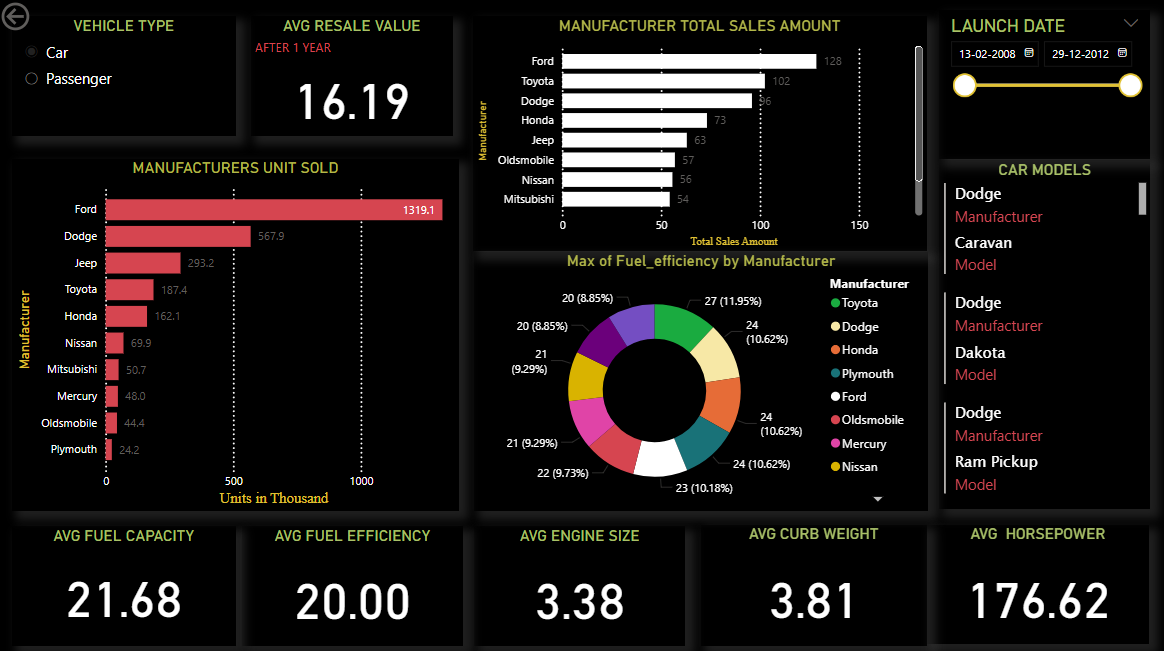

The dashboard page shown, as its layout file describes it:
{"tool":"powerbi","page":{"name":"Page 1","canvas":[1280,720],"ordinal":0},"visuals":[{"type":"barChart","title":" MANUFACTURERS UNIT SOLD","fields":{"Y":["Sum(cardata cardata_csv.Sales_in_thousands)"],"Category":["cardata cardata_csv.Manufacturer"]},"box":[16.3,174,484.7,382.2],"z":0},{"type":"slicer","fields":{"Values":["cardata cardata_csv.launch_date"]},"box":[1021.5,13.3,229.2,161.1],"z":1000},{"type":"card","title":"AVG RESALE VALUE","fields":{"Values":["Avg(cardata cardata_csv.__year_resale_value)"]},"box":[274.9,19.5,219.6,130.1],"z":2000},{"type":"multiRowCard","title":"CAR MODELS","fields":{"Values":["cardata cardata_csv.Manufacturer","cardata cardata_csv.Model"]},"box":[1021.5,191.9,229.3,379],"z":3000},{"type":"card","title":"AVG  HORSEPOWER","fields":{"Values":["Avg(cardata cardata_csv.Horsepower)"]},"box":[1008.5,570.9,240.7,130.1],"z":4000},{"type":"card","title":"AVG FUEL CAPACITY","fields":{"Values":["Avg(cardata cardata_csv.Fuel_capacity)"]},"box":[16.3,572.5,242.4,130.1],"z":5000},{"type":"card","title":"AVG FUEL EFFICIENCY","fields":{"Values":["Avg(cardata cardata_csv.Fuel_efficiency)"]},"box":[265.1,572.5,240.7,130.1],"z":6000},{"type":"actionButton","box":[0,0,100,40],"z":7000},{"type":"card","title":"AVG ENGINE SIZE","fields":{"Values":["Avg(cardata cardata_csv.Engine_size)"]},"box":[517.2,572.5,229.3,130.1],"z":8000},{"type":"card","title":"AVG CURB WEIGHT","fields":{"Values":["Avg(cardata cardata_csv.Curb_weight)"]},"box":[762.8,570.9,245.6,131.8],"z":9000},{"type":"slicer","title":"VEHICLE TYPE","fields":{"Values":["cardata cardata_csv.Vehicle_type"]},"box":[16.3,19.5,242.4,130.1],"z":10000},{"type":"clusteredBarChart","title":" MANUFACTURER TOTAL SALES AMOUNT","fields":{"Category":["cardata cardata_csv.Manufacturer"],"Y":["Sum(cardata cardata_csv.Price_in_thousands)"]},"box":[515.6,19.5,492.8,255.4],"z":11000},{"type":"donutChart","fields":{"Category":["cardata cardata_csv.Manufacturer"],"Y":["Max(cardata cardata_csv.Fuel_efficiency)"]},"box":[517.2,274.9,492.8,281.4],"z":12000}]}

Visuals, with their boxes in screenshot pixels (x1, y1, x2, y2), scaled from the page's 1280x720 canvas onto the 1164x651 screenshot:
" MANUFACTURERS UNIT SOLD" barChart: [left=15, top=157, right=456, bottom=503]
slicer - cardata cardata_csv.launch_date: [left=929, top=12, right=1137, bottom=158]
"AVG RESALE VALUE" card: [left=250, top=18, right=450, bottom=135]
"CAR MODELS" multiRowCard: [left=929, top=174, right=1137, bottom=516]
"AVG  HORSEPOWER" card: [left=917, top=516, right=1136, bottom=634]
"AVG FUEL CAPACITY" card: [left=15, top=518, right=235, bottom=635]
"AVG FUEL EFFICIENCY" card: [left=241, top=518, right=460, bottom=635]
actionButton: [left=0, top=0, right=91, bottom=36]
"AVG ENGINE SIZE" card: [left=470, top=518, right=679, bottom=635]
"AVG CURB WEIGHT" card: [left=694, top=516, right=917, bottom=635]
"VEHICLE TYPE" slicer: [left=15, top=18, right=235, bottom=135]
" MANUFACTURER TOTAL SALES AMOUNT" clusteredBarChart: [left=469, top=18, right=917, bottom=249]
donutChart - cardata cardata_csv.Manufacturer x Max(cardata cardata_csv.Fuel_efficiency): [left=470, top=249, right=918, bottom=503]
